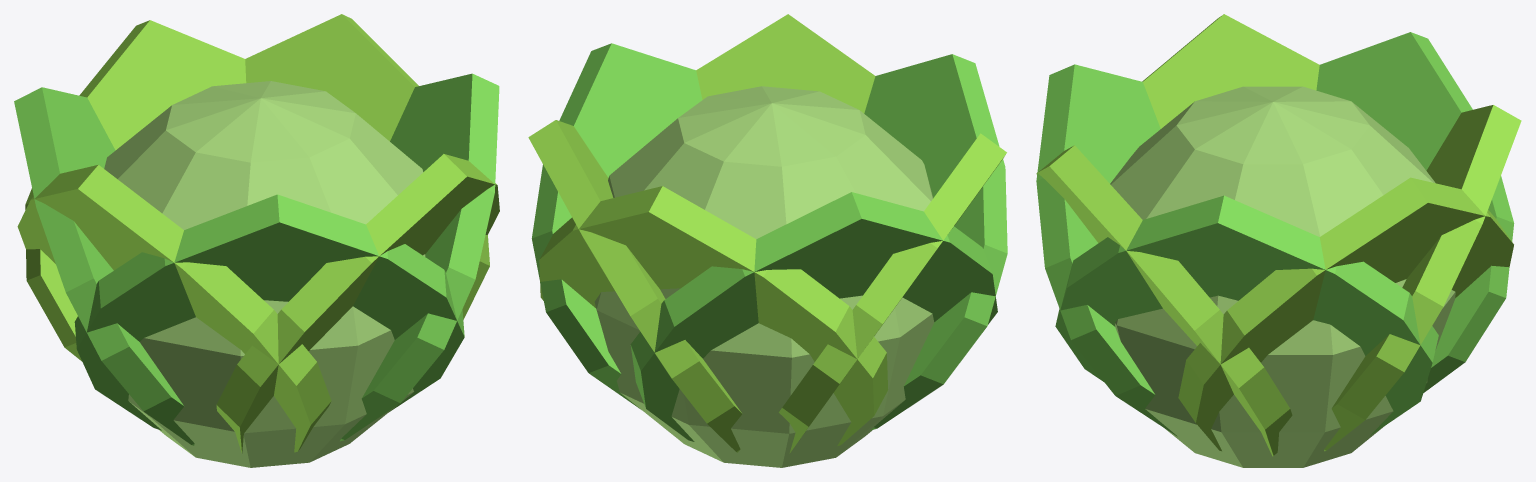
File: Lettuce.fbx
3 views of the same model, side by side, from view 1: azimuth 30°, elevation 25°; view 2: azimuth 150°, elevation 25°; view 3: azimuth 270°, elevation 25° (orthographic).
Visible parts, largest first — view 1: Lettuce; view 2: Lettuce; view 3: Lettuce.
Boxes of the visible parts, x1,y1,x2,y2 form: Lettuce: (14, 14, 499, 467); Lettuce: (528, 14, 1007, 467); Lettuce: (1036, 14, 1521, 467).
Bounding box in the file's own units: 0.8762 × 0.7159 × 0.8778.
Materials: 1 (1 with a texture image).
